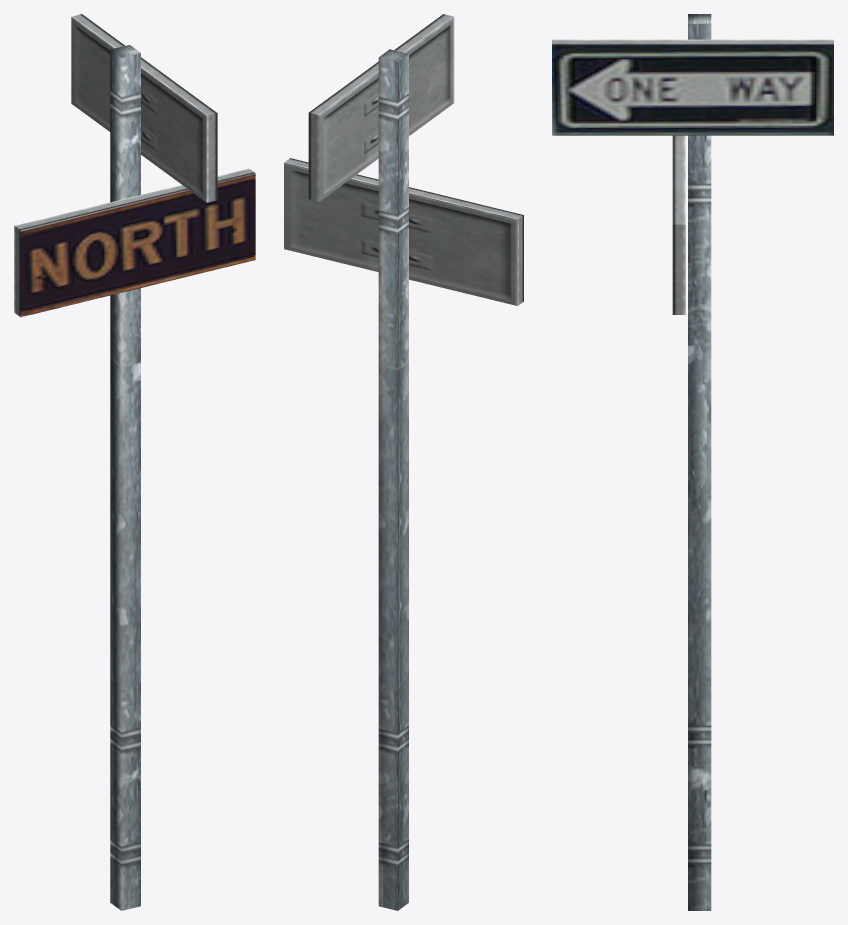
Rendered from Model_StreetSign_17.fbx.
3 renders of one model, left to right at view 1: azimuth 30°, elevation 25°; view 2: azimuth 150°, elevation 25°; view 3: azimuth 270°, elevation 25°, orthographic. The views are drawn at different scales.
Parts seen in each view (by area): view 1: StreetSign_18; view 2: StreetSign_18; view 3: StreetSign_18.
Boxes of the visible parts, left/top/right/bottom form: StreetSign_18: left=14, top=14, right=255, bottom=910; StreetSign_18: left=284, top=14, right=523, bottom=910; StreetSign_18: left=552, top=14, right=833, bottom=910.
Size of the model in its own units: 77.82 by 270 by 77.82.
